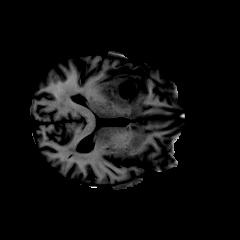glioma: (84, 63, 146, 107)
